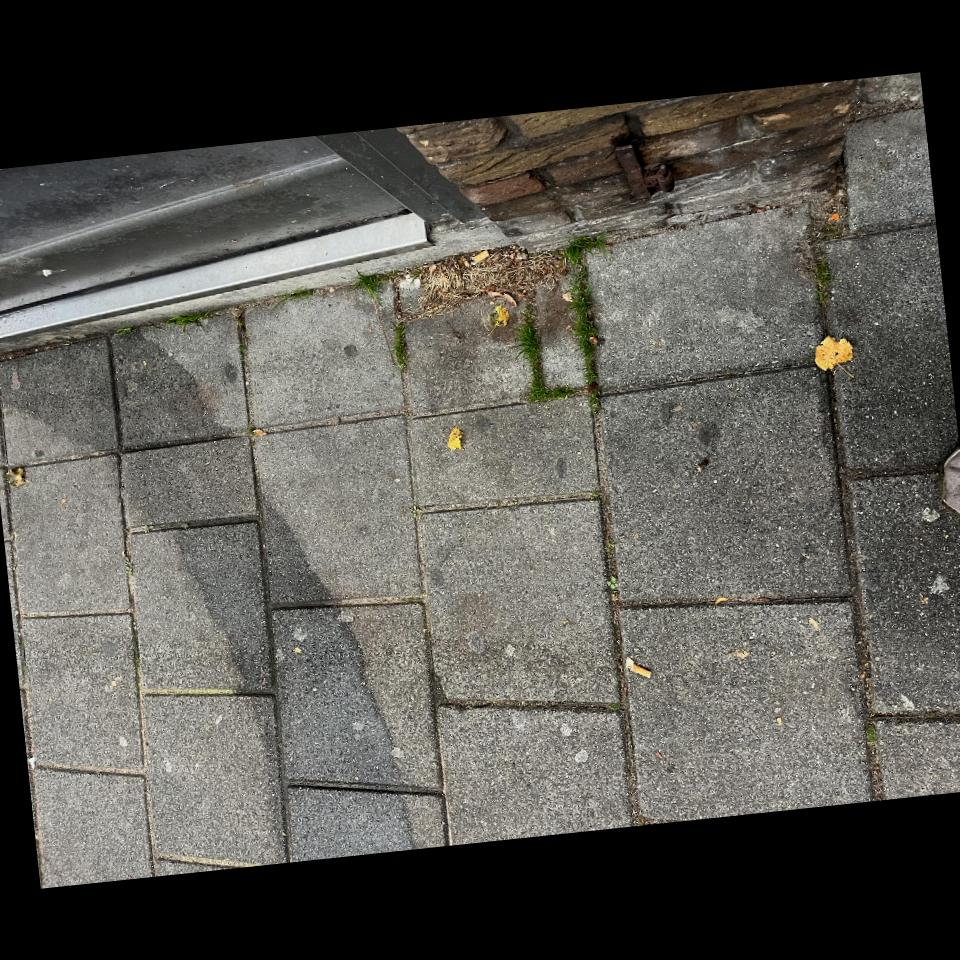weed: (350, 546, 398, 724), (386, 558, 447, 655), (573, 657, 608, 690), (128, 657, 148, 702), (552, 589, 569, 640), (646, 653, 685, 672), (752, 633, 798, 647), (825, 625, 846, 633)
